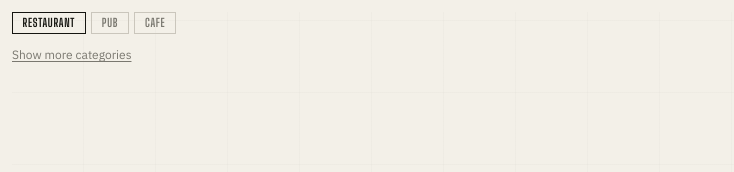
it: VenueTypeFilter › shows extended chips after clicking "Show more"
The width and height of the screenshot is (734, 172).
Click the button "Show more categories".
click(72, 55)  # box [12,47,132,62]
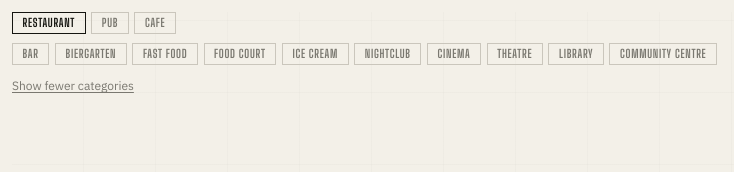
Expected: the button "Bar" is shown, [12,43,49,65]
Expected: the button "Biergarten" is shown, [55,43,127,65]
Expected: the button "Fast Food" is shown, [132,43,198,65]
